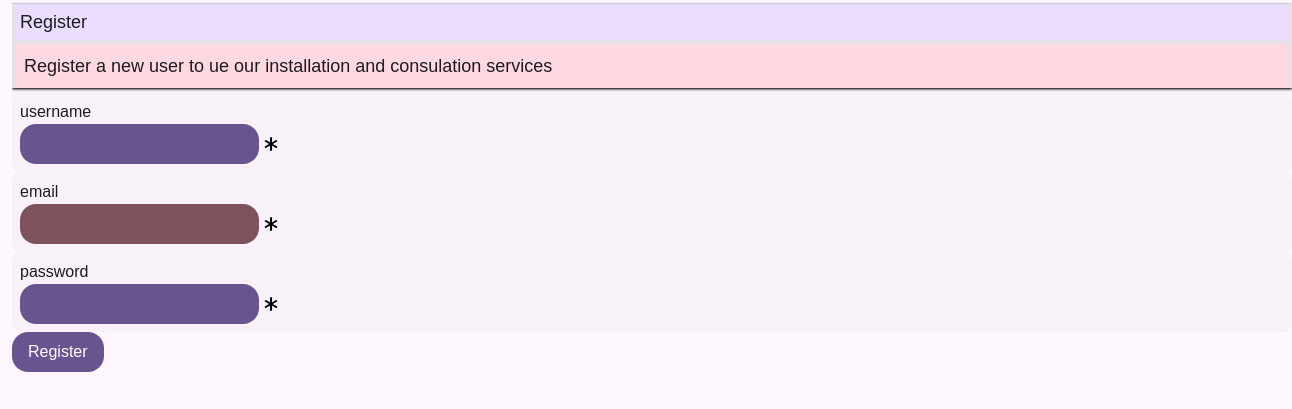
RegisterPage › submits registration form and displays returned user
Type "newuser" into the field labelled "username". click: (140, 144)
box: [20,124,259,164]
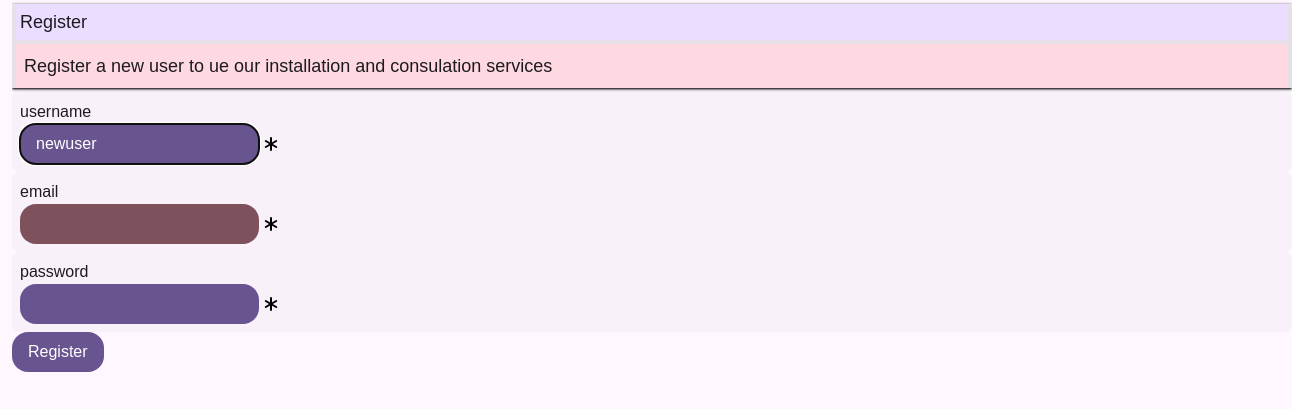
Type "newuser@example.com" into the field labelled "email". click: (140, 224)
box: [20,204,259,244]
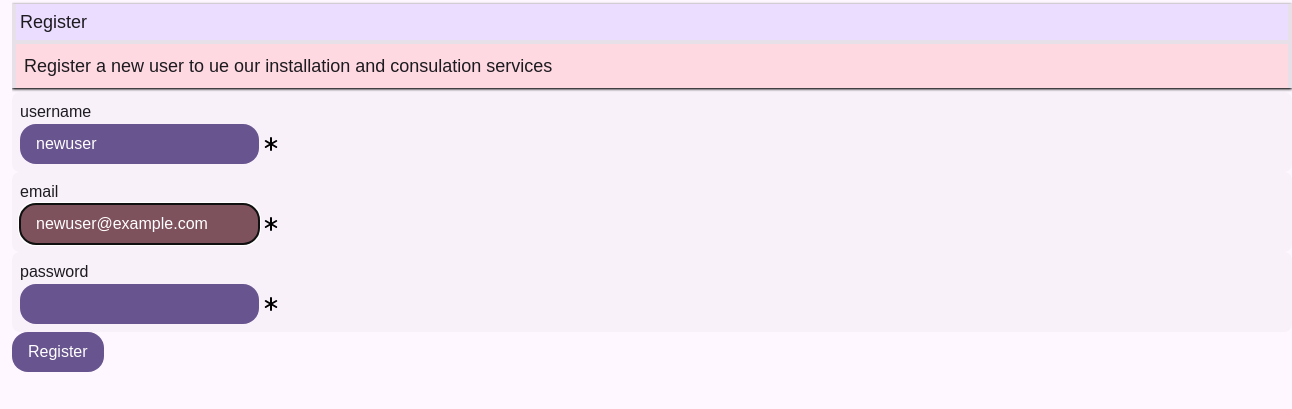
Type "verysecure123" into the field labelled "password". click: (140, 304)
box: [20,284,259,324]
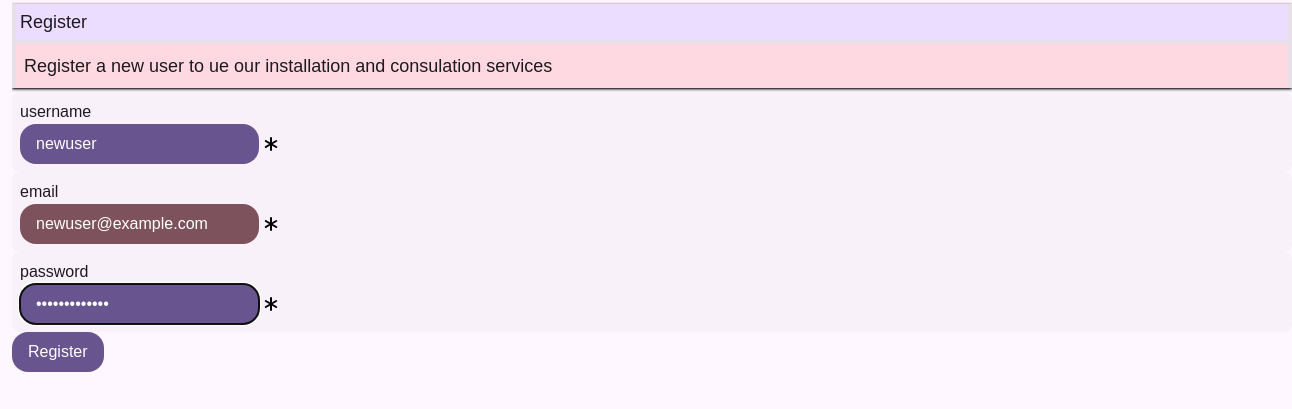
Click the button "Register". click: (58, 352)
box: [12,332,104,372]
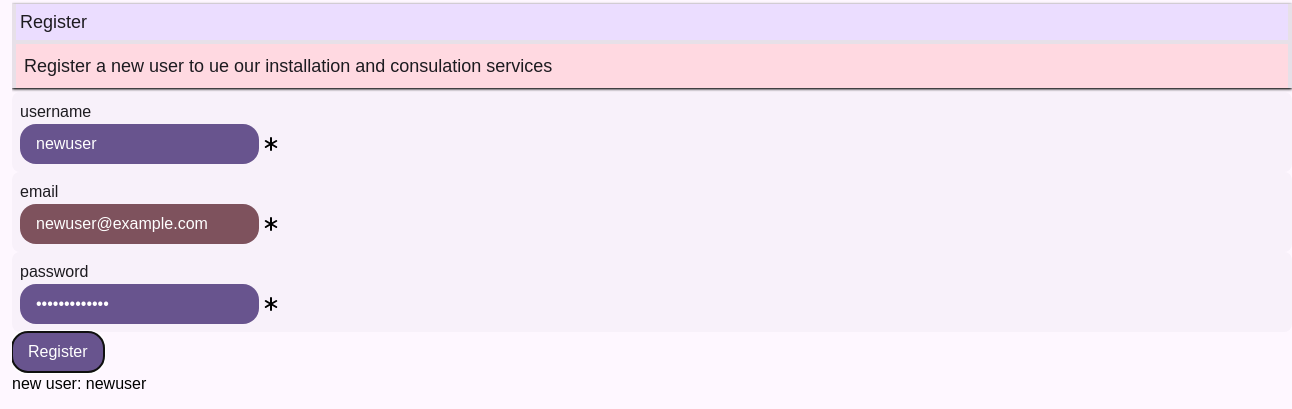
Check: the text "new user: newuser" is shown, box [12,375,146,392]
